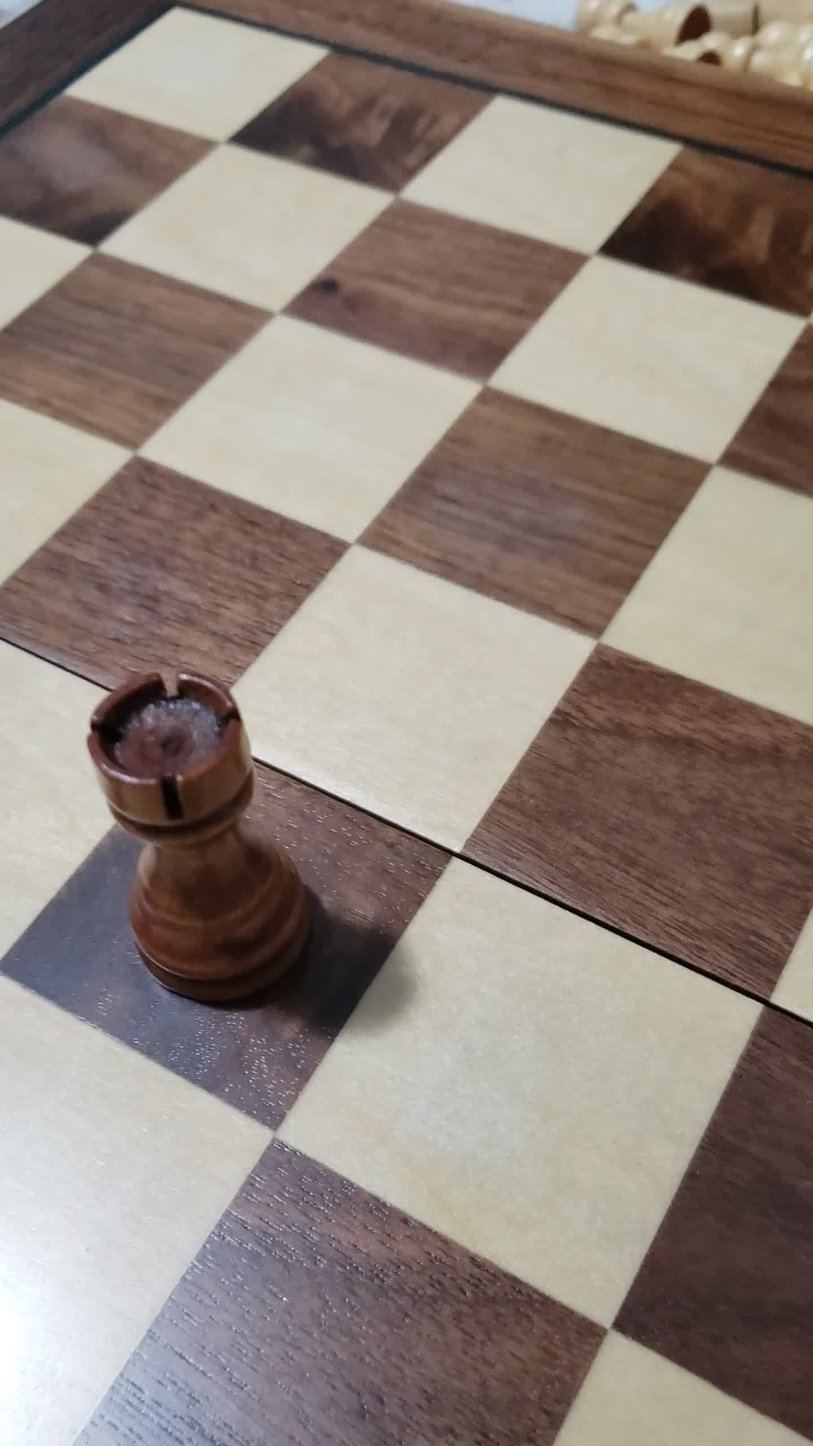black-knight: (45, 640, 347, 1001)
